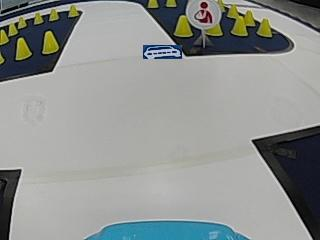cone: (174, 15, 193, 37), (15, 37, 32, 60), (42, 31, 58, 53), (232, 15, 248, 36), (257, 18, 272, 37), (67, 5, 79, 18), (0, 28, 9, 44), (48, 8, 59, 21), (33, 12, 44, 24), (8, 22, 18, 35), (17, 16, 27, 28), (146, 0, 159, 8), (165, 0, 177, 7)
patient: (189, 0, 218, 26)
